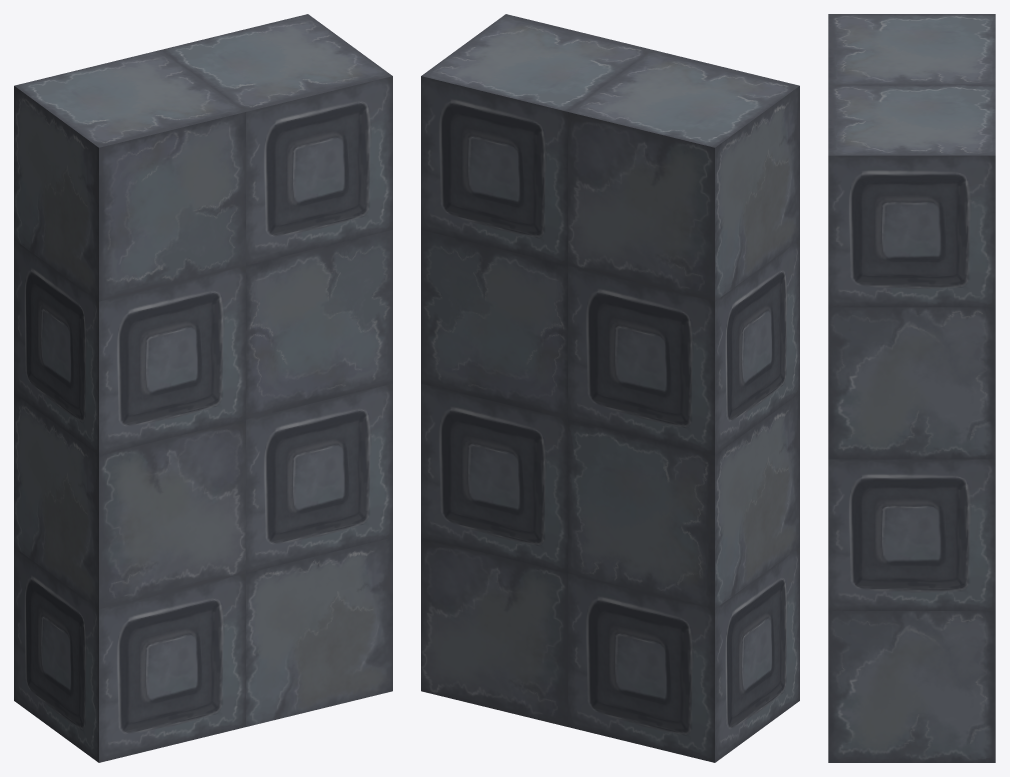
File: Castle Sig Sag 2x4.fbx
3 renders of one model, left to right at view 1: azimuth 30°, elevation 25°; view 2: azimuth 150°, elevation 25°; view 3: azimuth 270°, elevation 25°, orthographic.
Visible parts, largest first — view 1: Castle Sig Sag 2x4; view 2: Castle Sig Sag 2x4; view 3: Castle Sig Sag 2x4.
Boxes of the visible parts, x1,y1,x2,y2 form: Castle Sig Sag 2x4: (14,14,392,762); Castle Sig Sag 2x4: (421,14,799,762); Castle Sig Sag 2x4: (828,14,995,762).
Bounding box in the file's own units: 1.5 × 3 × 0.75.
